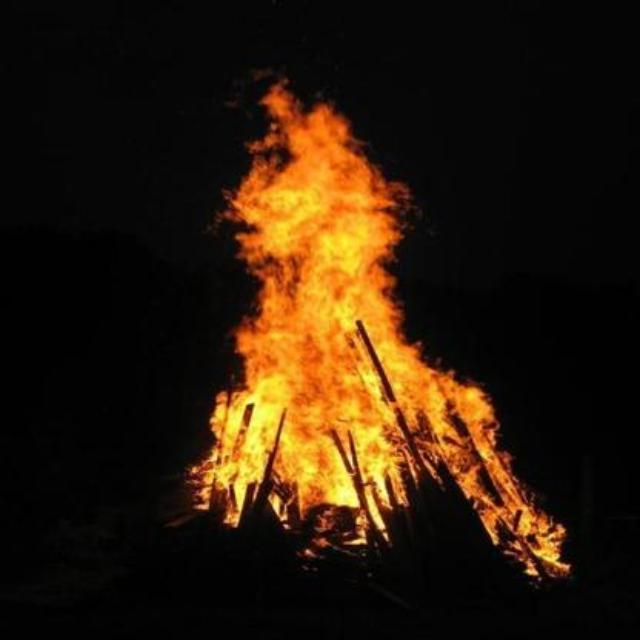Fire: (188, 64, 574, 586)
